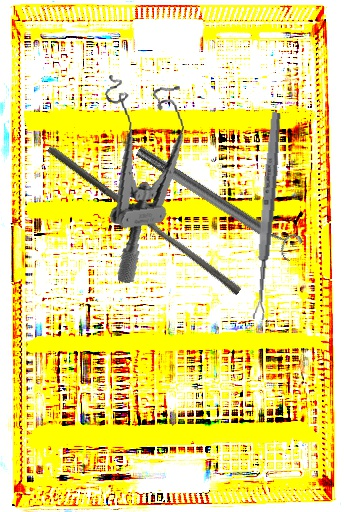Fixation Ring: (130, 136, 305, 265)
Pusher: (41, 144, 247, 296)
Speculum: (89, 65, 207, 285)
Surgical Spoon: (250, 111, 284, 321)
